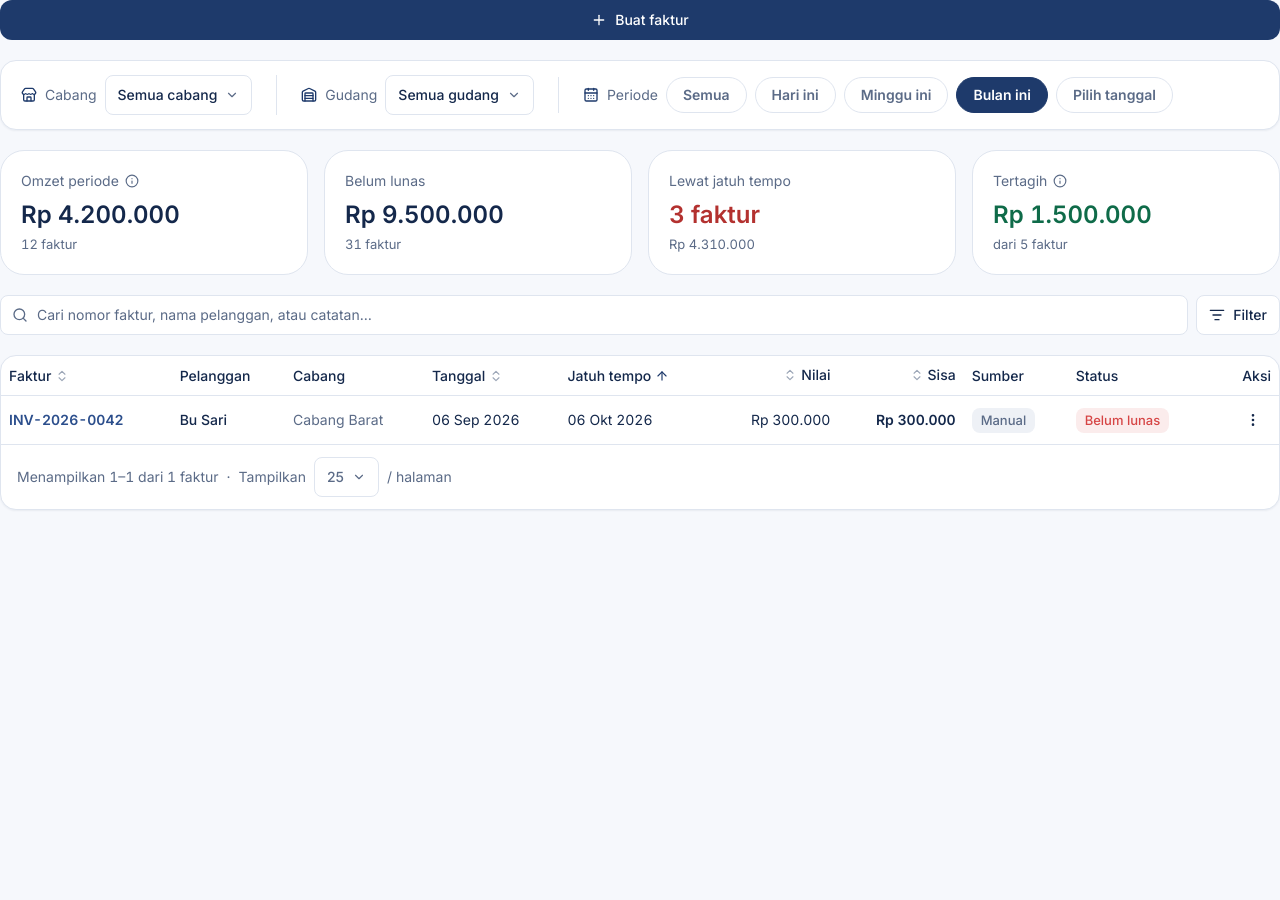
SalesInvoiceList — the scope card › offers a Reset once filters are on, and clears them in one press
Expected: the link "INV-2026-0042" is shown, [9, 411, 124, 428]
Step 1. Click the button "Filter" → (1238, 315), box [1196, 295, 1279, 335]
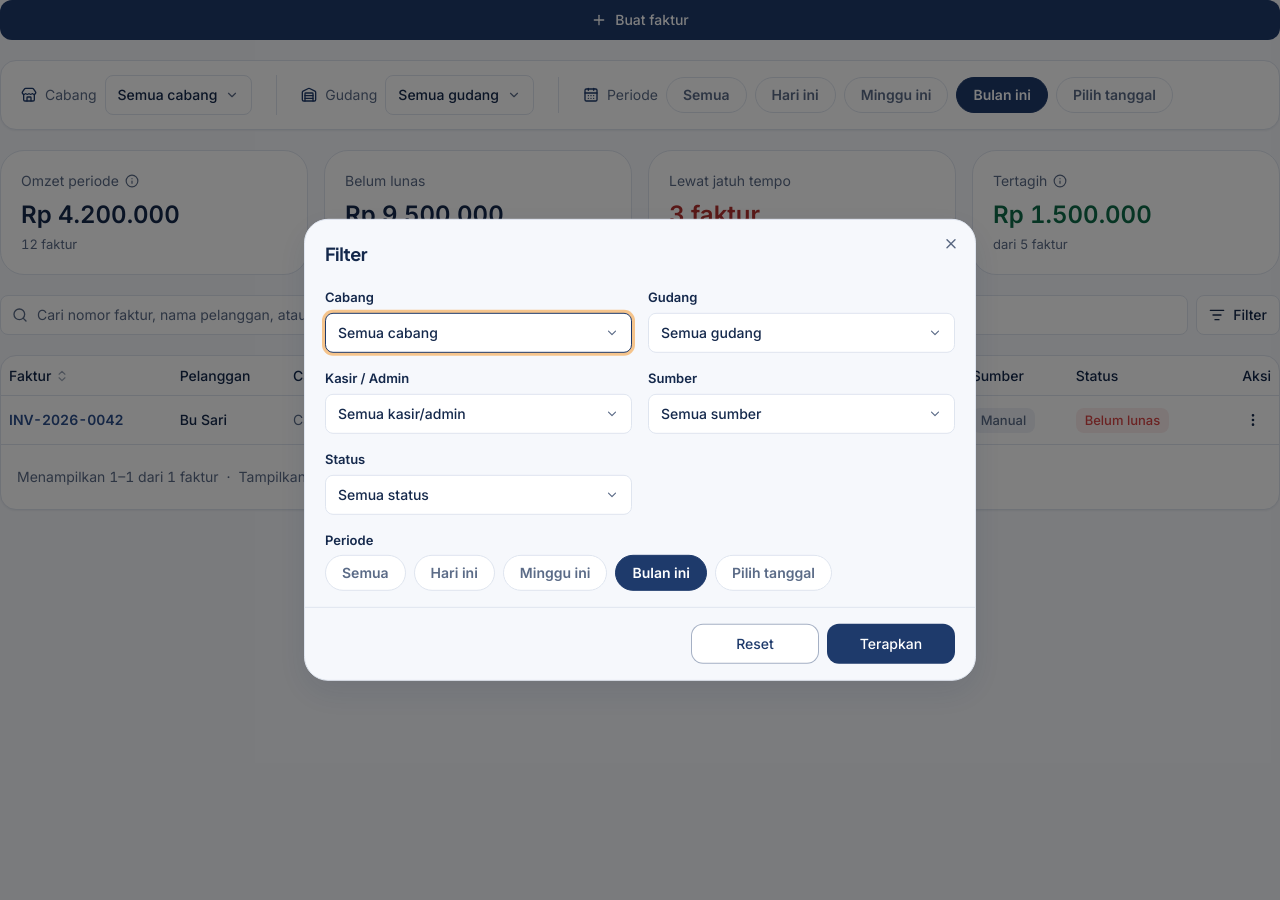
Step 2. Click the button with aria-label "Gudang:" → (711, 332), box [648, 313, 955, 353]
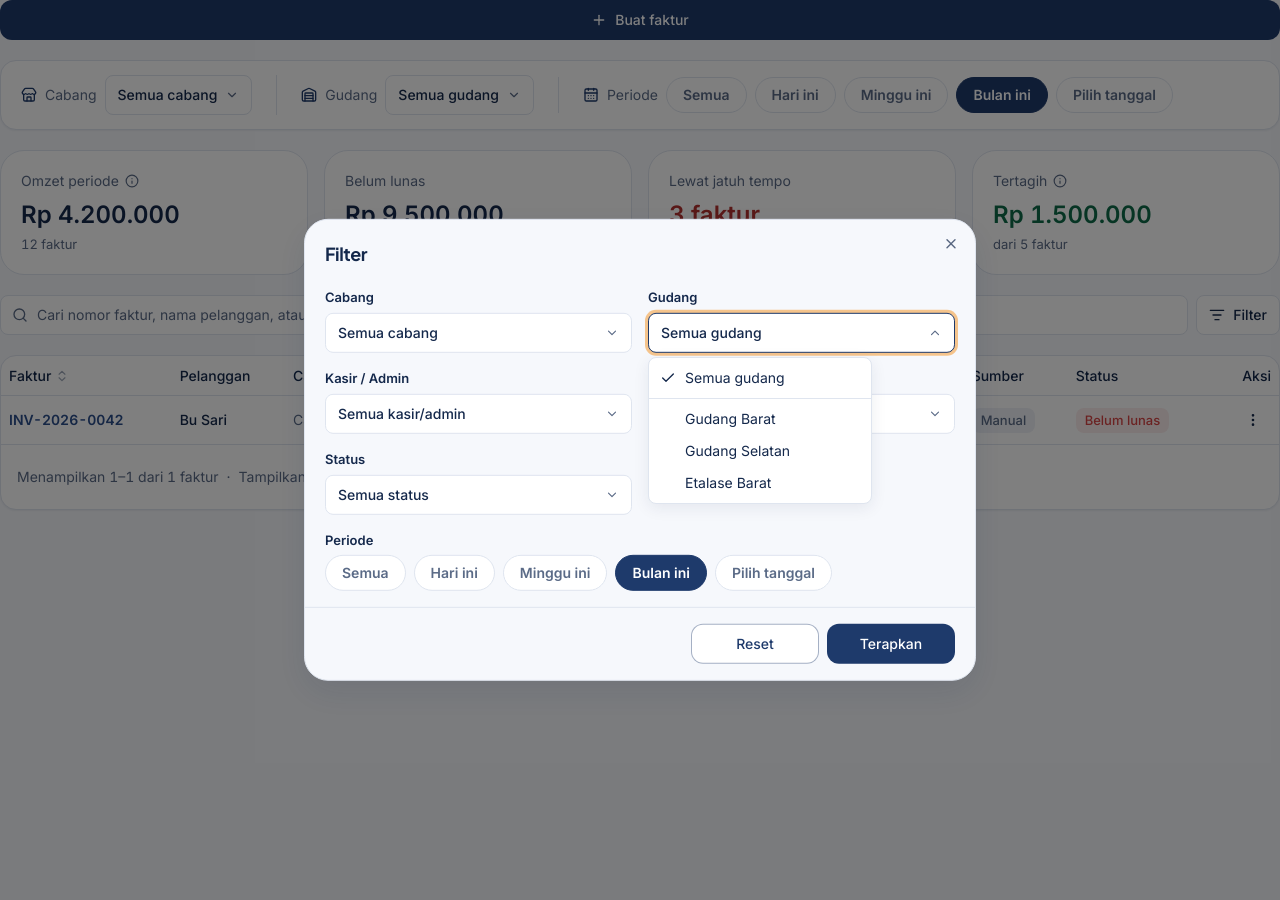
Step 3. Click the menu item "Gudang Selatan" → (738, 450), box [685, 442, 790, 459]
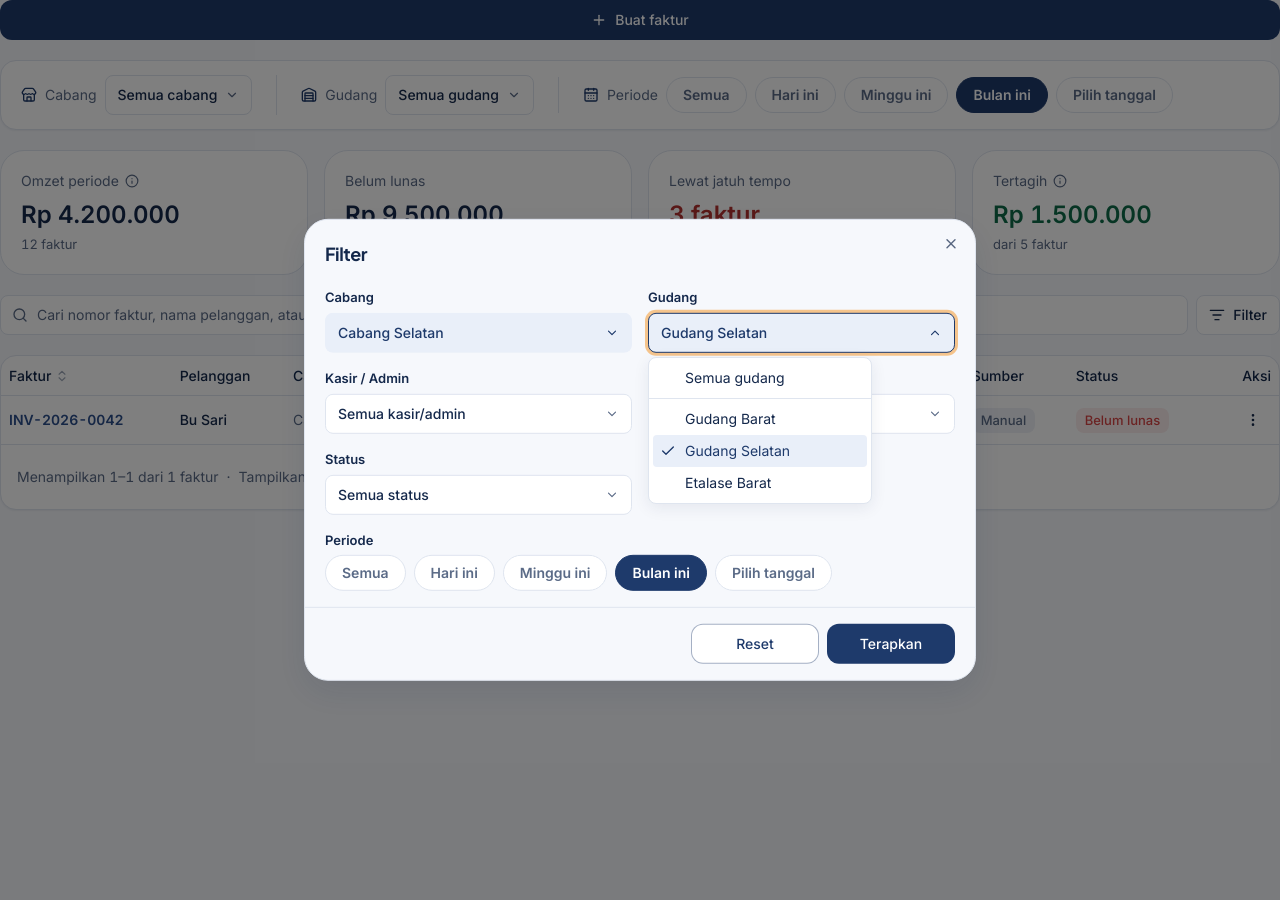
Step 4. Press Escape
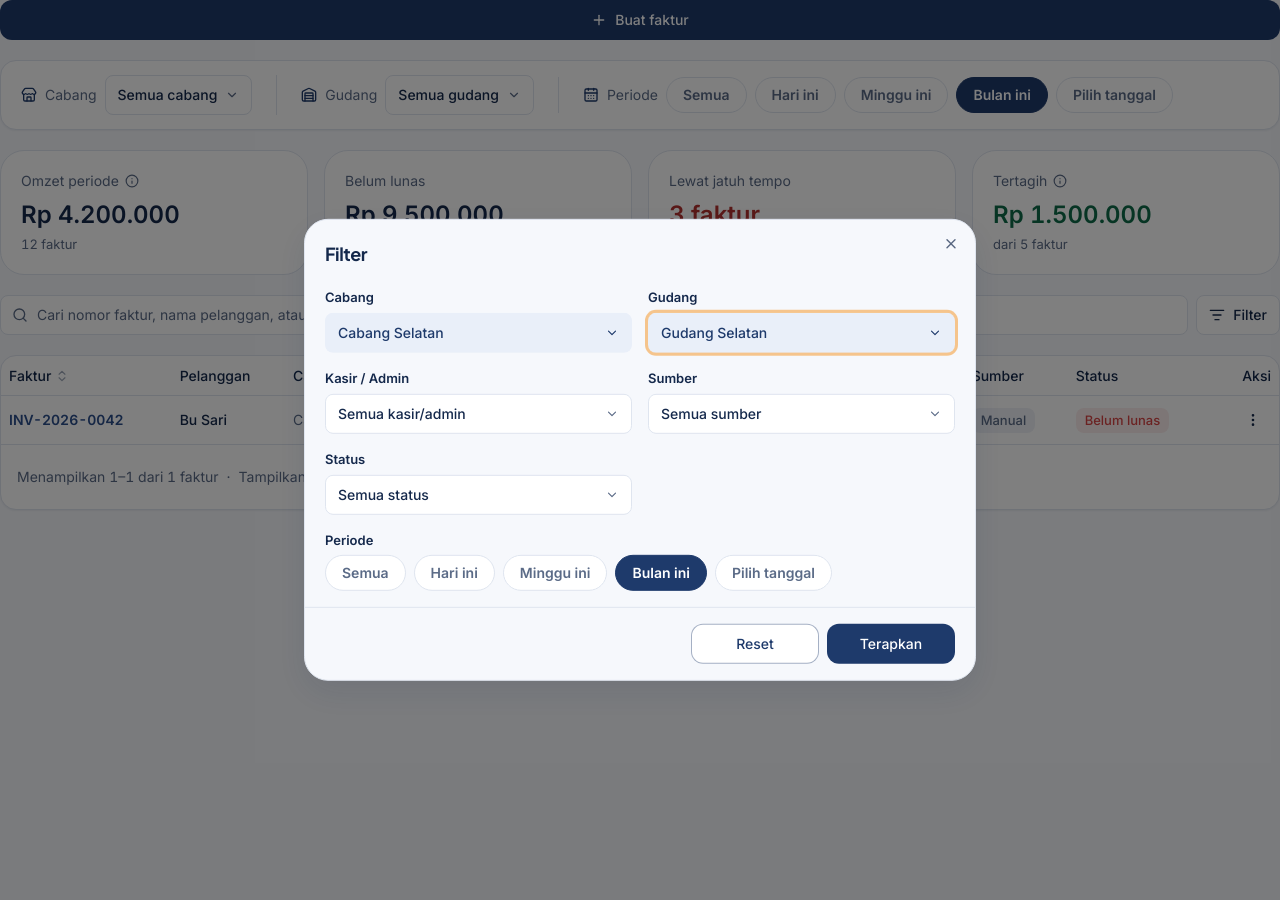
Step 5. Click the button "Terapkan" → (891, 644), box [827, 624, 955, 664]
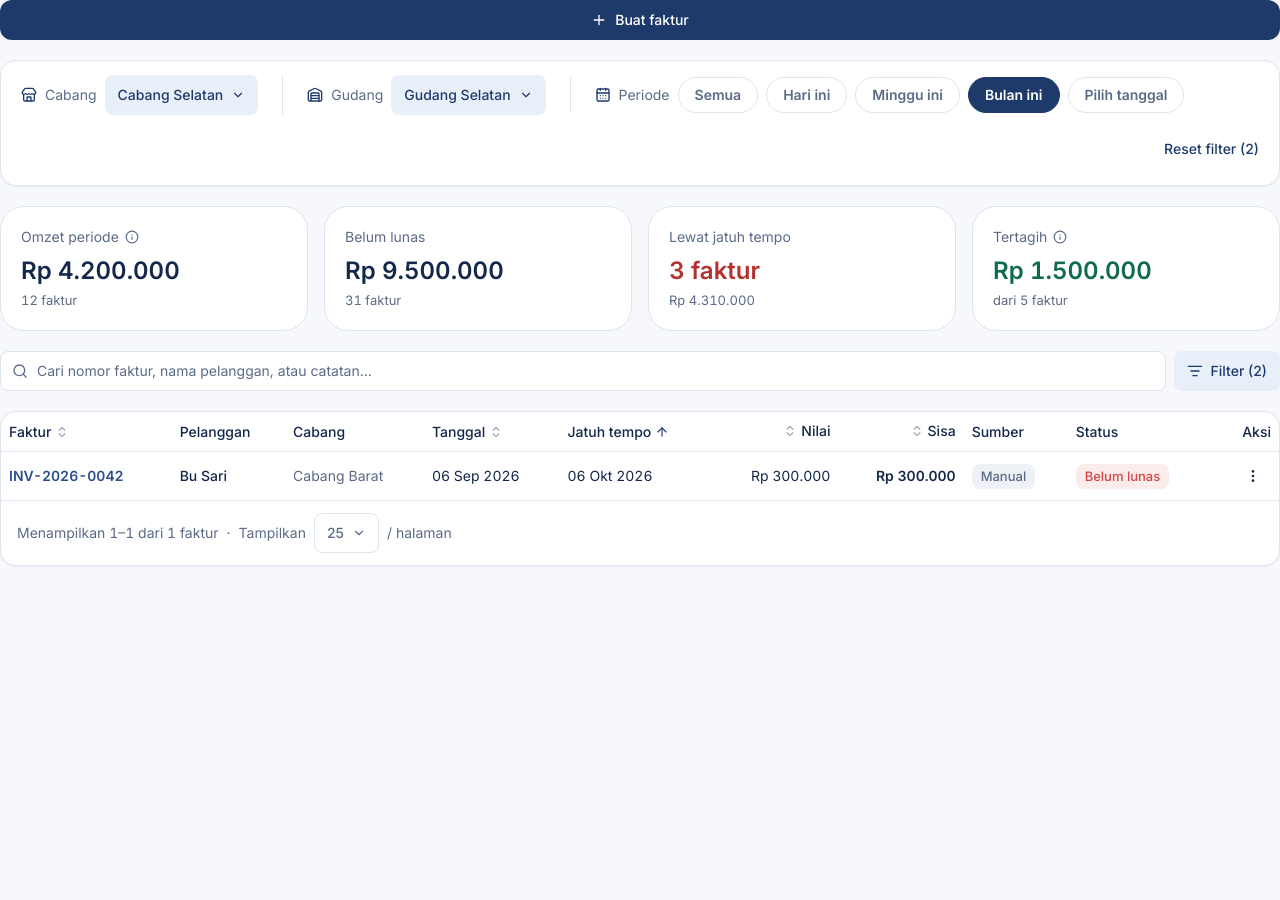
Step 6. Click the button "Reset filter (2)" → (1212, 149), box [1164, 127, 1259, 171]
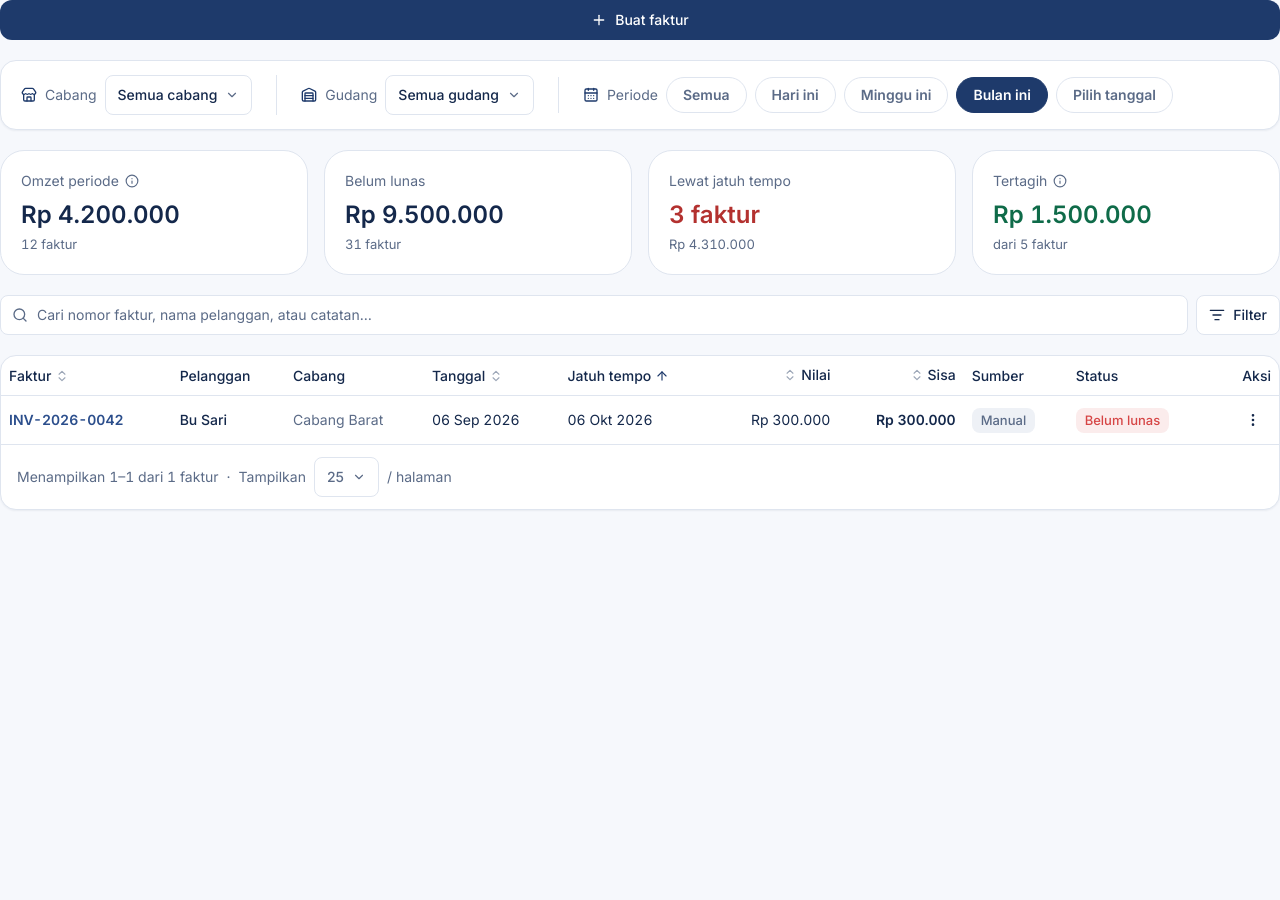
Now the element named "Lingkup data" no longer shows "Reset filter", box [0, 60, 1279, 130]
